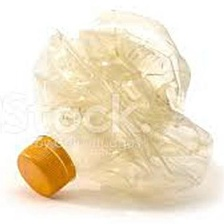bottle: (12, 6, 219, 204)
